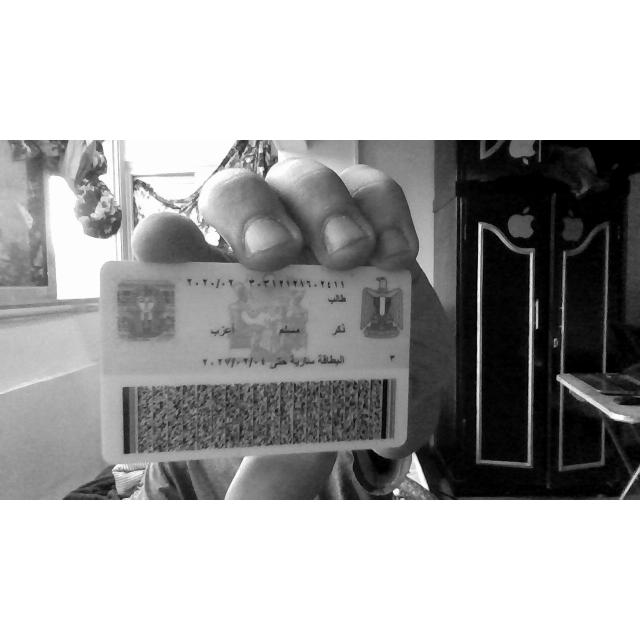back: (100, 261, 412, 462)
